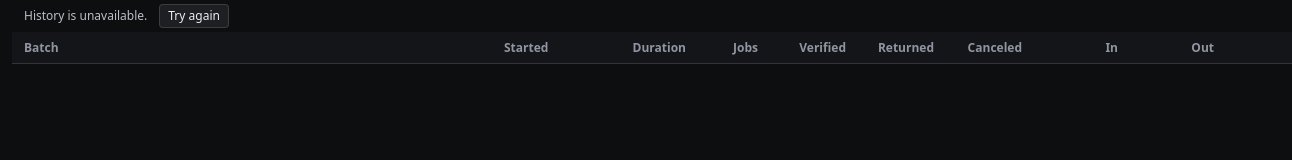
Test case: History table › says when nothing is kept and offers to try again after a refusal
The image size is (1292, 160).
Expected: the text "History is unavailable." is shown, [24,8,147,24]
Click the button "Try again" at (194, 16), box [159,4,229,28]
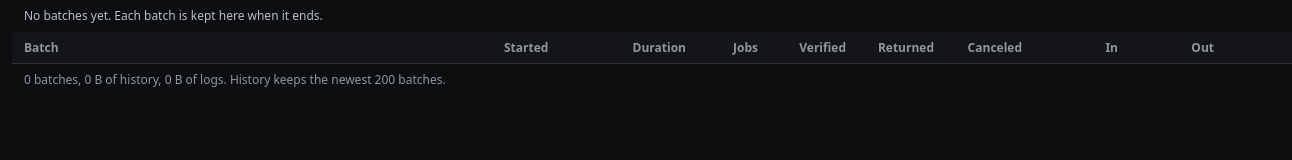
Now the text "No batches yet. Each batch is kept here when it ends." is shown, box [24,8,323,24]
